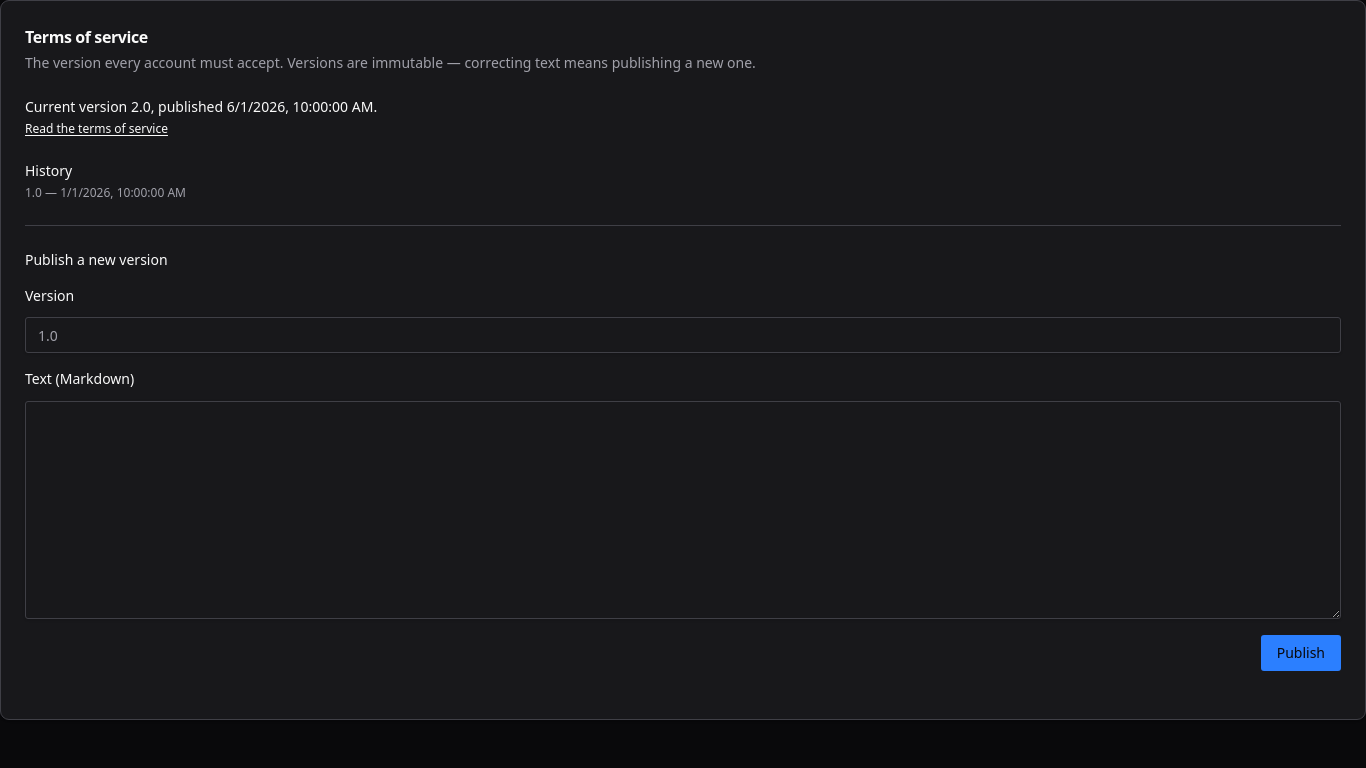
TermsSettingsSection › requires a version and a body
Click the button "Publish".
click(1301, 652)  # box [1261, 634, 1341, 670]
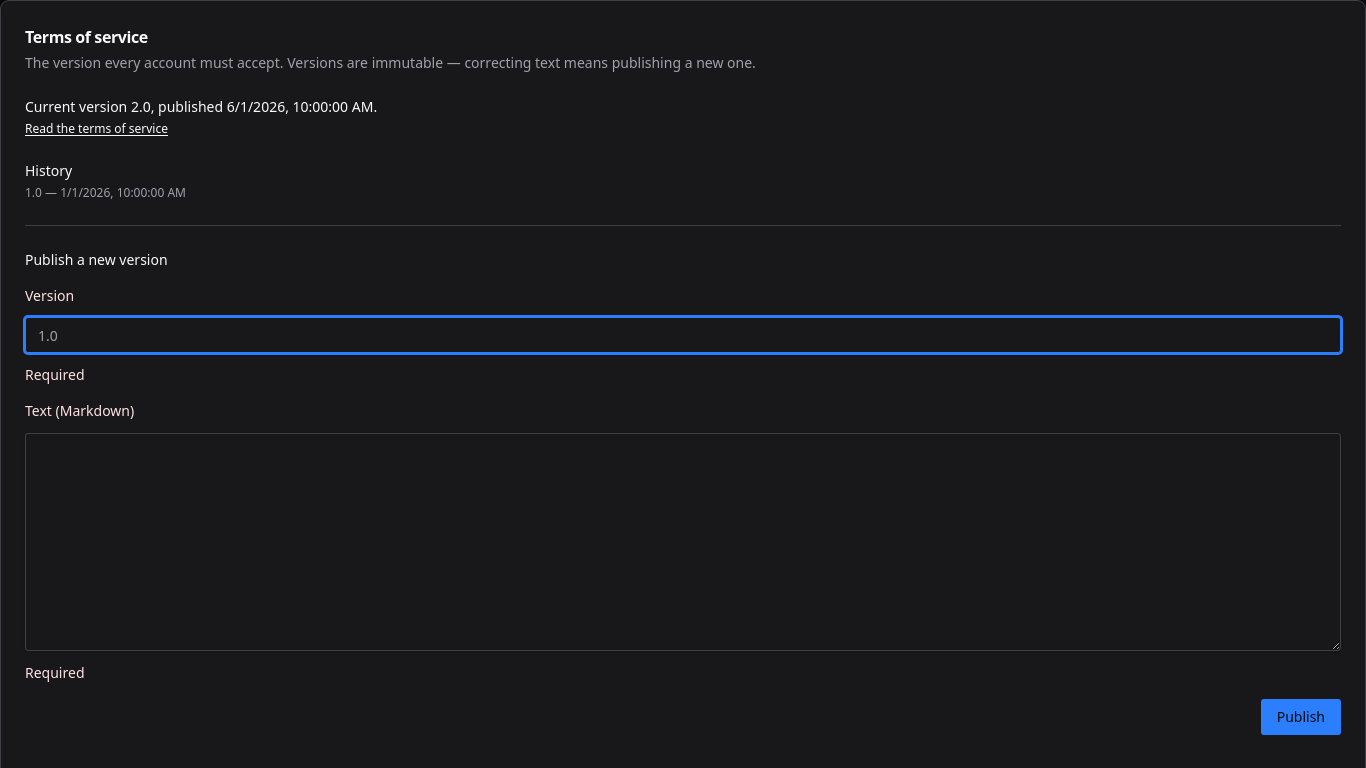
Check: the text "Required" is shown 2 times, box [25, 365, 84, 384]; [25, 662, 84, 682]
